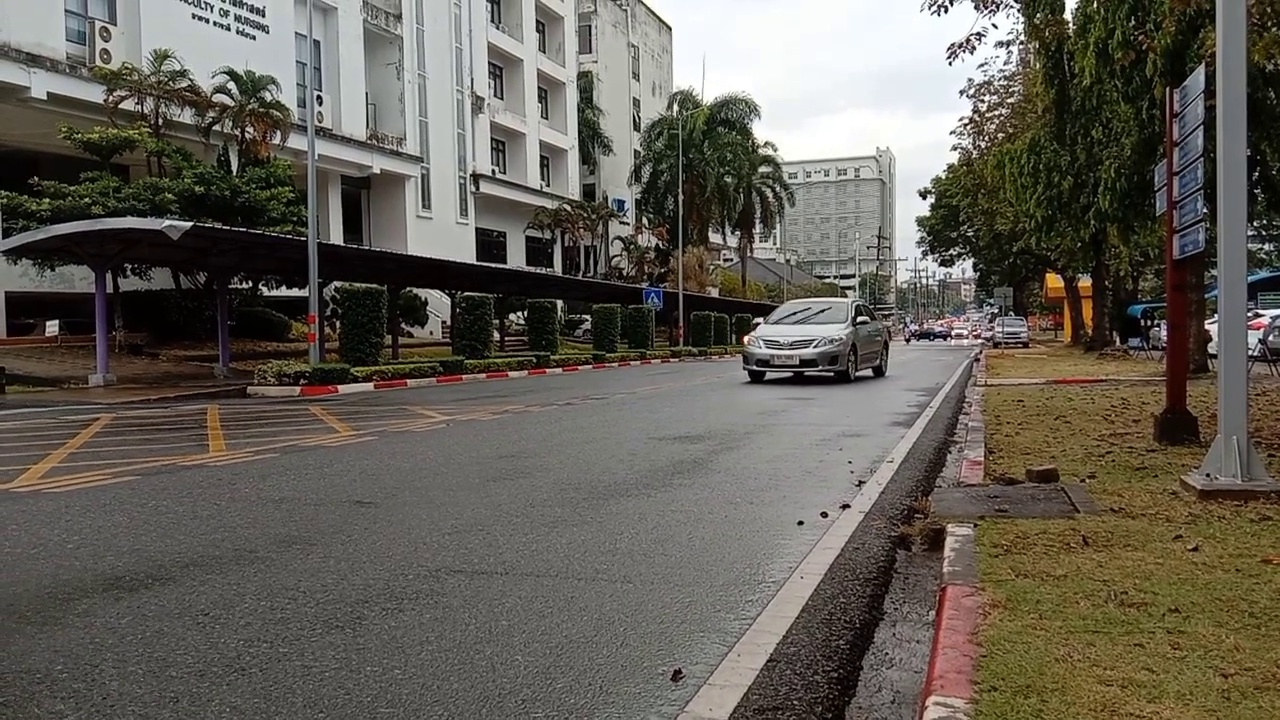License Plate: (770, 352, 802, 367)
